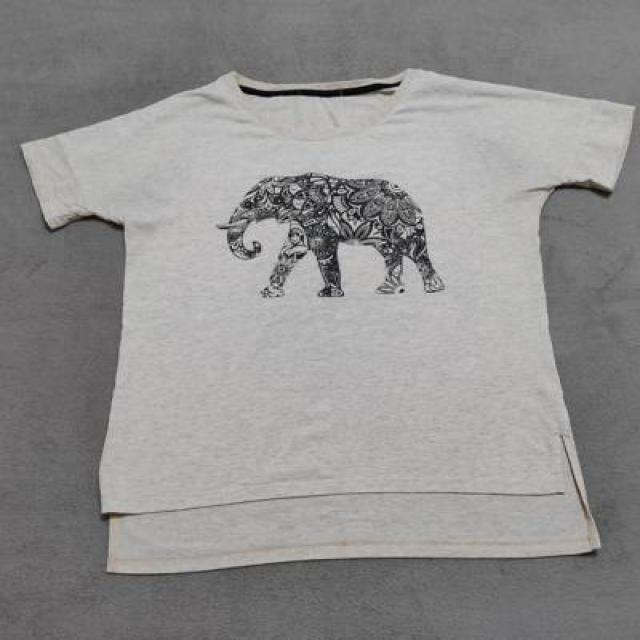shirt: (21, 69, 634, 576)
